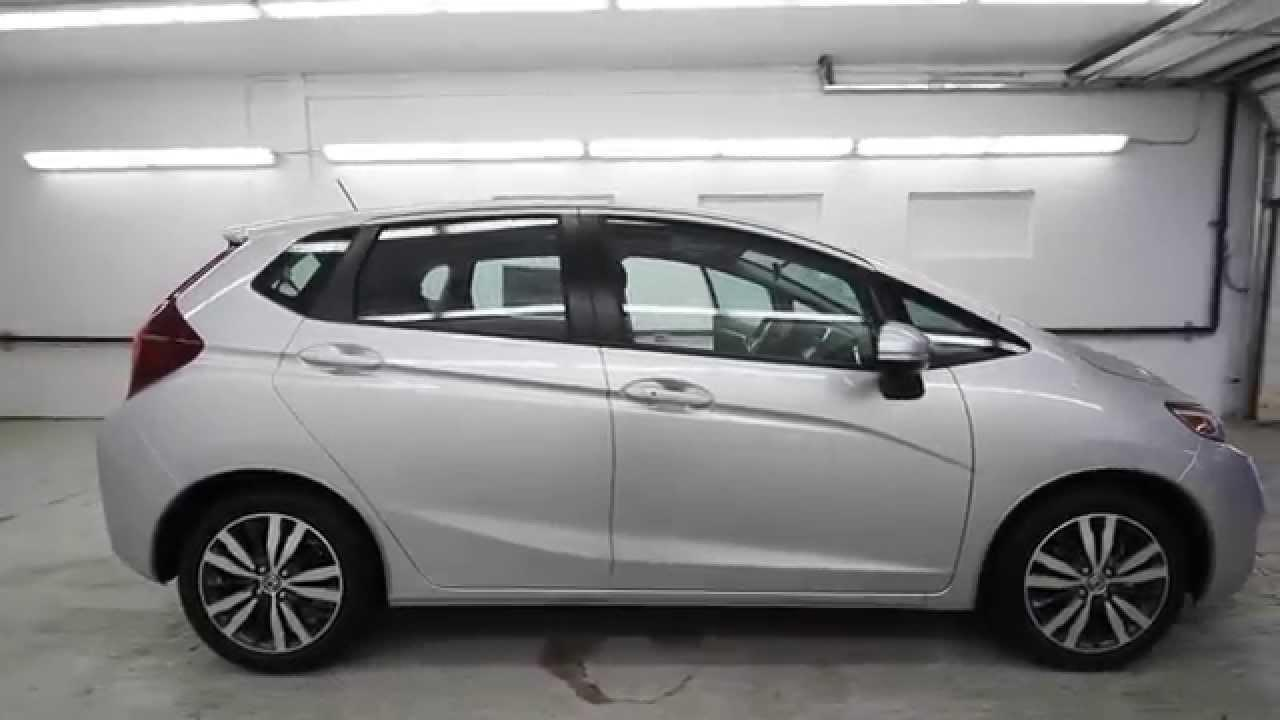Hatchback: (68, 182, 1280, 689)
